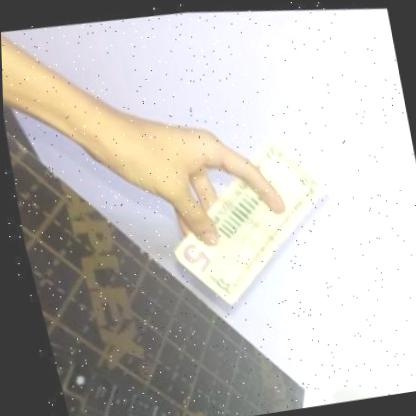five-back: (134, 110, 359, 330)
